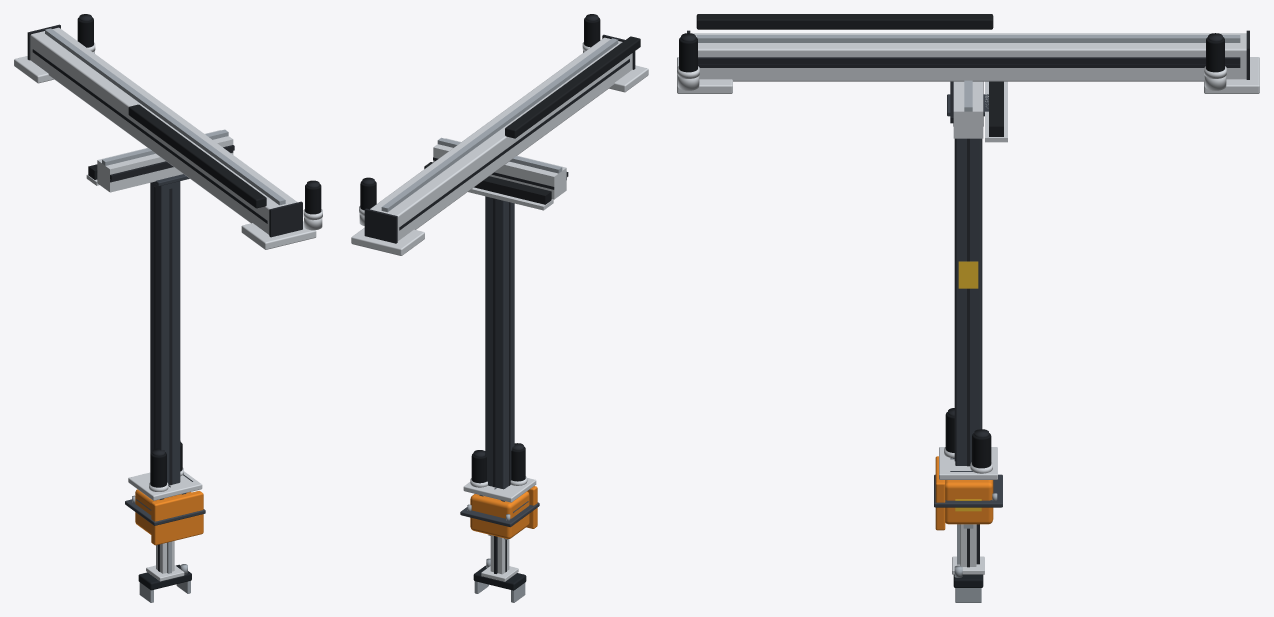
The model's file is gantry.glb.
3 renders of one model, left to right at view 1: azimuth 30°, elevation 25°; view 2: azimuth 150°, elevation 25°; view 3: azimuth 270°, elevation 25°, orthographic. The views are drawn at different scales.
Parts seen in each view (by area): view 1: YProfile, PostColumn, YChain, YRail, CarPlate, XProfile, PostSlot_0, Truck_1.6, EndCap_1.6, CarTop, YSlot_-1, ZServo_Body (+9 smaller); view 2: YProfile, PostColumn, YChain, YRail, CarBody, XProfile, XChain, Truck_-1.6, EndCap_-1.6, YSlot_-1, PostSlot_1, CarTop (+11 smaller); view 3: YProfile, PostColumn, YChain, YRail, YRack, YSlot_1, CarBody, XProfile, CarTop, PostSlot_2, XChain, Truck_-1.6 (+1 smaller).
Part boxes in pixels (<box>): YProfile: <box>30,27,297,234</box>; PostColumn: <box>150,181,180,485</box>; YChain: <box>128,104,266,208</box>; YRail: <box>45,28,285,205</box>; CarPlate: <box>151,491,203,545</box>; XProfile: <box>97,130,233,192</box>; PostSlot_0: <box>169,188,172,485</box>; Truck_1.6: <box>241,221,316,249</box>; EndCap_1.6: <box>269,201,302,237</box>; CarTop: <box>128,471,202,500</box>; YSlot_-1: <box>32,49,267,223</box>; ZServo_Body: <box>150,452,166,487</box>; YProfile: <box>370,37,632,240</box>; PostColumn: <box>485,196,514,489</box>; YChain: <box>505,36,640,138</box>; YRail: <box>381,38,618,212</box>; CarBody: <box>470,491,529,538</box>; XProfile: <box>433,138,566,199</box>; XChain: <box>424,162,551,204</box>; Truck_-1.6: <box>351,228,424,255</box>; EndCap_-1.6: <box>364,208,397,243</box>; YSlot_-1: <box>399,59,629,230</box>; PostSlot_1: <box>493,198,495,487</box>; CarTop: <box>463,478,536,502</box>; YProfile: <box>692,33,1246,81</box>; PostColumn: <box>955,138,981,465</box>; YChain: <box>696,14,993,29</box>; YRail: <box>696,35,1240,42</box>; YRack: <box>698,57,1240,63</box>; YSlot_1: <box>698,64,1240,67</box>; CarBody: <box>945,480,993,524</box>; XProfile: <box>953,81,983,138</box>; CarTop: <box>939,447,997,479</box>; PostSlot_2: <box>967,138,969,466</box>; XChain: <box>989,81,1003,136</box>; Truck_-1.6: <box>1204,57,1259,93</box>.
Bounding box in the file's own units: 1 × 3.83 × 3.54.
